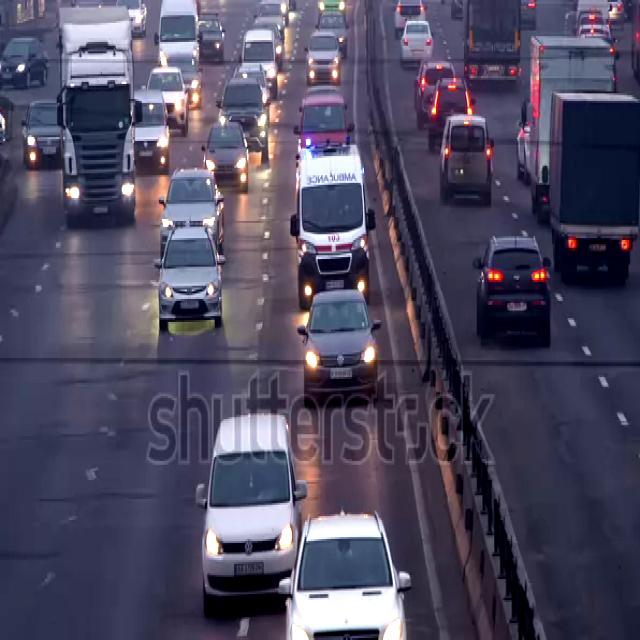ambulance: (289, 140, 378, 310)
